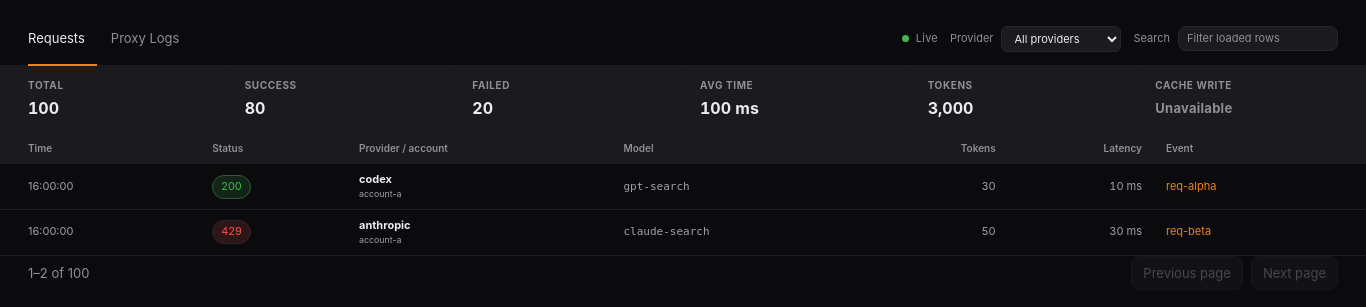
Test case: Logs loaded-page search › clearing restores all loaded rows and server-wide totals
The image size is (1366, 307).
Type "claude" into the search field named "Search loaded requests" at (1258,38), box left=1178, top=26, right=1338, bottom=51
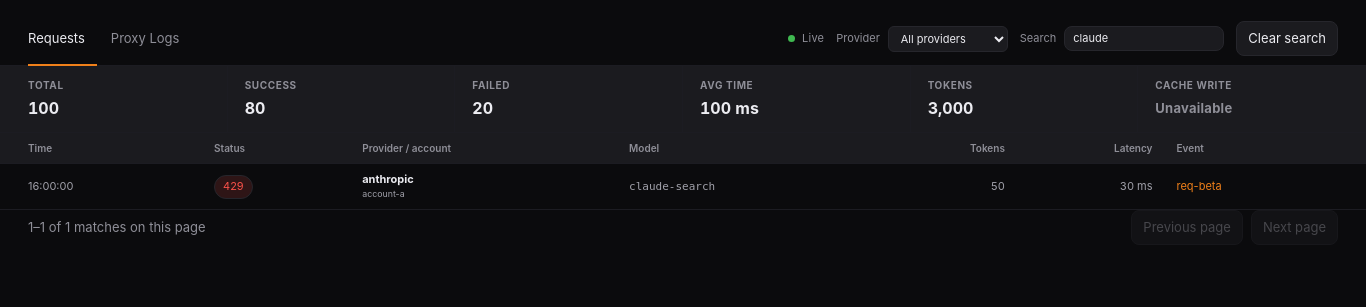
Click the button with aria-label "Clear log search" at (1287,38), box left=1236, top=21, right=1338, bottom=56
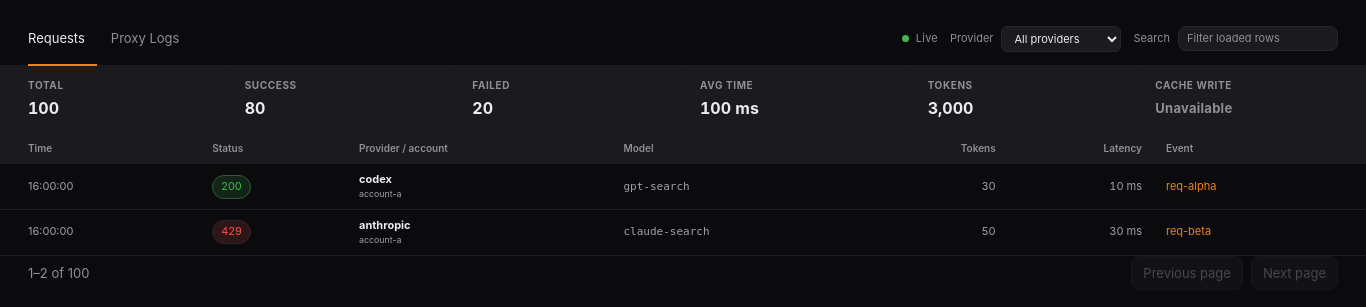
Check: the search field named "Search loaded requests" is empty, box left=1178, top=26, right=1338, bottom=51
Check: the text "1–2 of 100" is shown, box left=28, top=264, right=89, bottom=282
